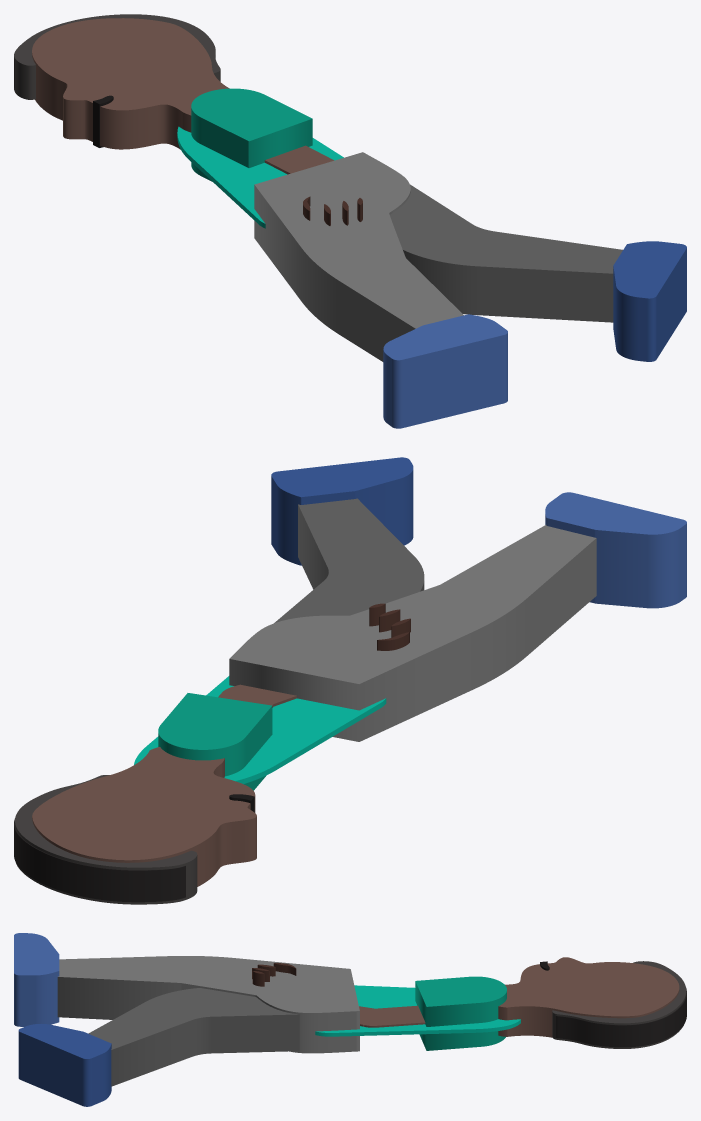
Rendered from emoji_u1f6b6_1f3ff_200d_2642.glb.
3 views of the same model, one above another, from view 1: azimuth 30°, elevation 25°; view 2: azimuth 150°, elevation 25°; view 3: azimuth 270°, elevation 25° (orthographic). The views are drawn at different scales.
Visible parts, largest first — view 1: emoji_u1f6b6_1f3ff_200d_2642; view 2: emoji_u1f6b6_1f3ff_200d_2642; view 3: emoji_u1f6b6_1f3ff_200d_2642.
Boxes of the visible parts, <box> form: emoji_u1f6b6_1f3ff_200d_2642: <box>14,14,686,428</box>; emoji_u1f6b6_1f3ff_200d_2642: <box>14,457,686,904</box>; emoji_u1f6b6_1f3ff_200d_2642: <box>14,933,686,1106</box>.
Bounding box in the file's own units: 0.0145 × 0.0036 × 0.0332.
